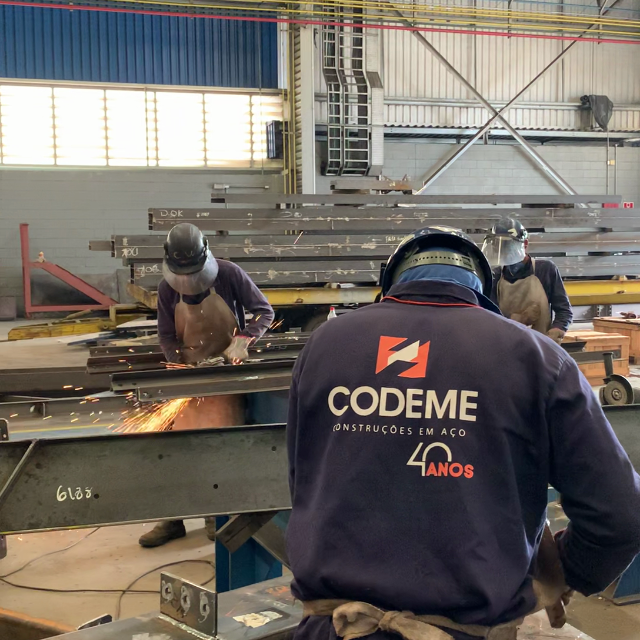face-shield: (160, 248, 219, 296), (482, 235, 528, 269)
glove: (220, 338, 251, 365), (547, 328, 567, 343)
helmet: (382, 225, 496, 290), (164, 222, 210, 279), (488, 215, 527, 241)
person: (288, 225, 638, 615), (157, 222, 277, 370), (481, 215, 570, 344)
